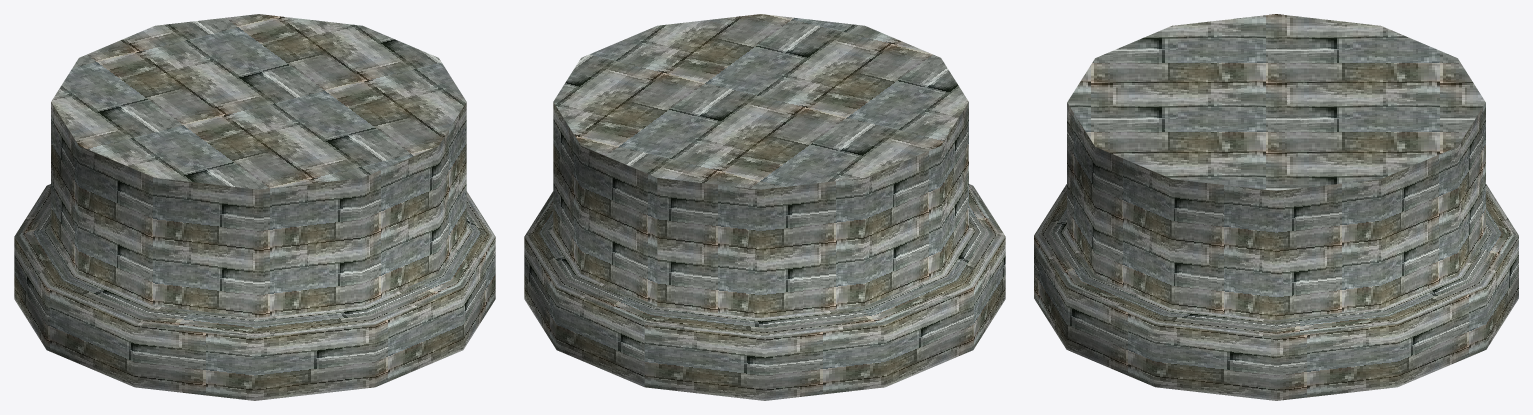
The model's file is cleobulus.glb.
3 renders of one model, left to right at view 1: azimuth 30°, elevation 25°; view 2: azimuth 150°, elevation 25°; view 3: azimuth 270°, elevation 25°, orthographic.
Parts seen in each view (by area): view 1: cleobulus.ms3d.mo; view 2: cleobulus.ms3d.mo; view 3: cleobulus.ms3d.mo.
Part boxes in pixels (x1,y1,x2,y2): cleobulus.ms3d.mo: (14, 14, 495, 400); cleobulus.ms3d.mo: (524, 14, 1005, 400); cleobulus.ms3d.mo: (1034, 14, 1518, 400).
Size of the model in its own units: 26.63 by 12 by 26.63.
Materials: 1 (1 with a texture image).
